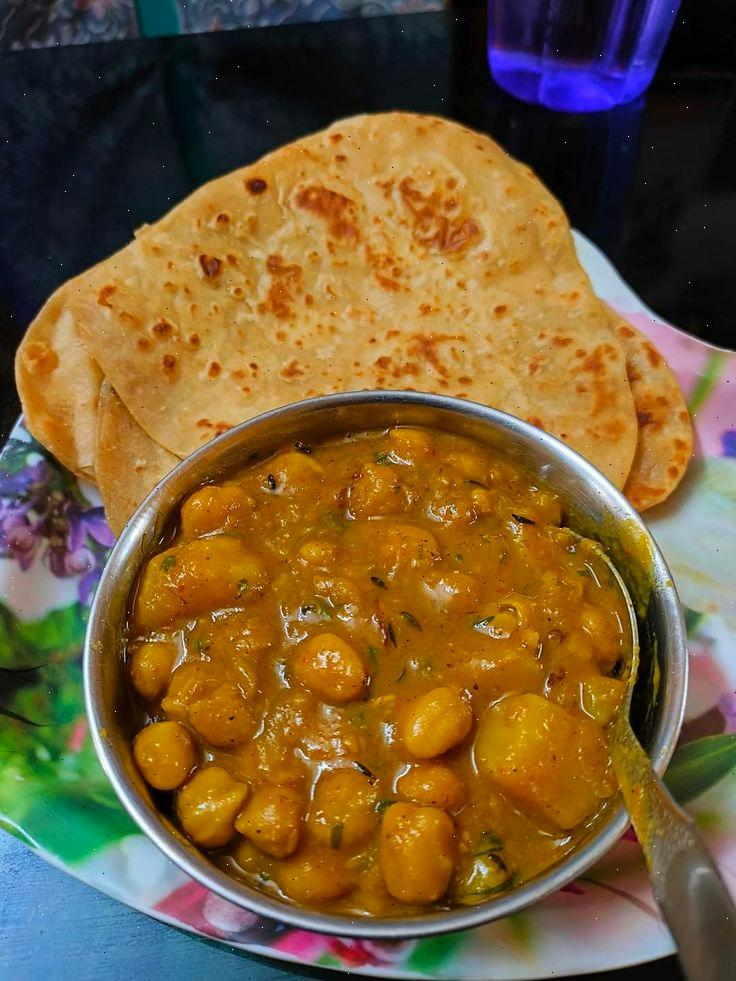chole: (105, 423, 658, 900)
roti phulka: (72, 176, 622, 389)
